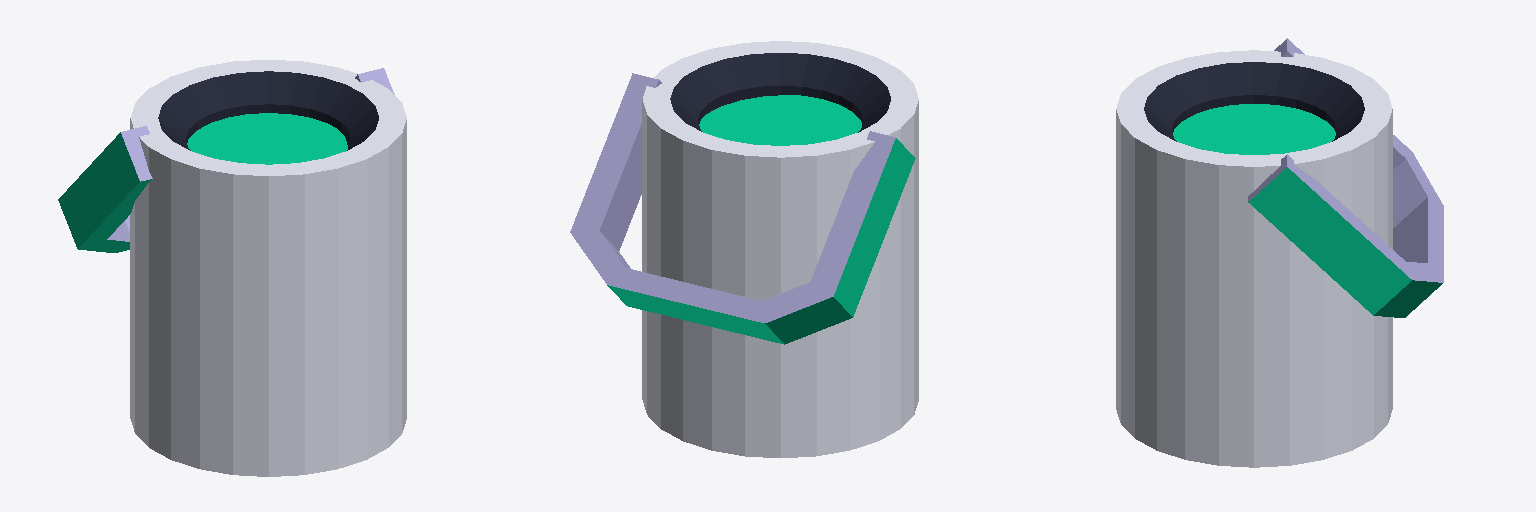
The model's file is Paint.obj.
3 views of the same model, side by side, from view 1: azimuth 30°, elevation 25°; view 2: azimuth 150°, elevation 25°; view 3: azimuth 270°, elevation 25° (orthographic).
Parts seen in each view (by area): view 1: mergedBlocks; view 2: mergedBlocks; view 3: mergedBlocks.
Part boxes in pixels (bbox=[...]): mergedBlocks: bbox=[58, 60, 406, 476]; mergedBlocks: bbox=[570, 41, 918, 457]; mergedBlocks: bbox=[1116, 38, 1443, 467].
Size of the model in its own units: 0.55 by 0.612 by 0.5923.